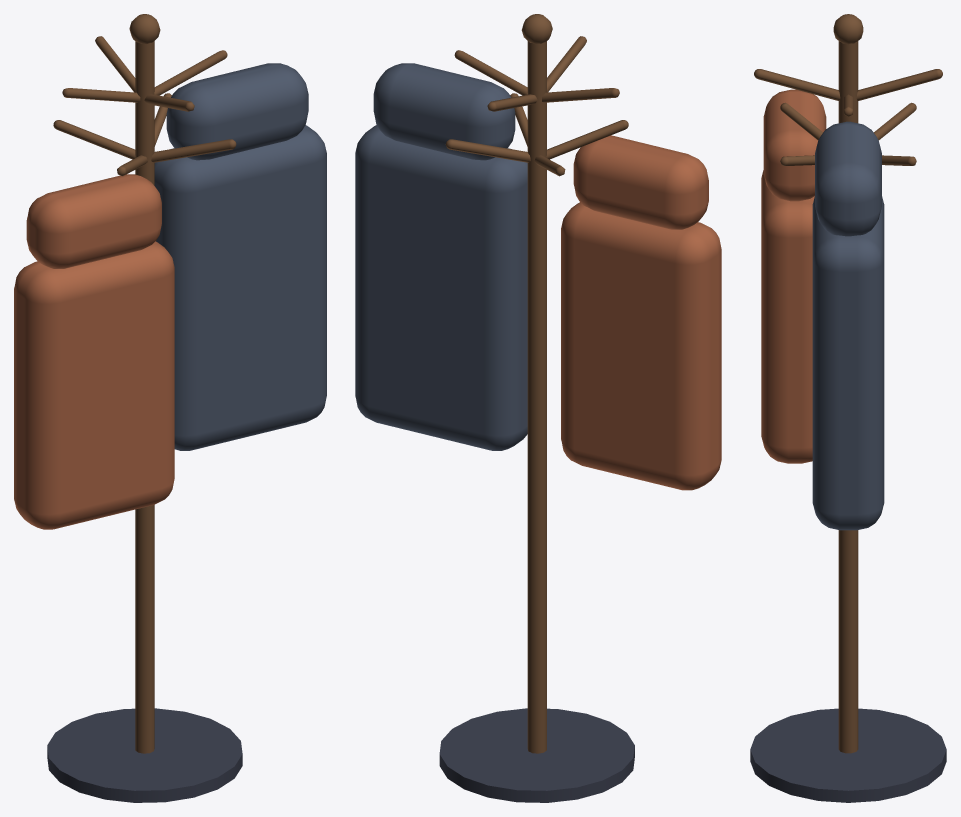
File: ame-019.glb
The picture shows the model from 3 angles, left to right: view 1: azimuth 30°, elevation 25°; view 2: azimuth 150°, elevation 25°; view 3: azimuth 270°, elevation 25°; orthographic projection.
Visible parts, largest first — view 1: upholstery, upholstery_warm, dark_steel, walnut; view 2: upholstery, upholstery_warm, walnut, dark_steel; view 3: upholstery, upholstery_warm, dark_steel, walnut.
Boxes of the visible parts, <box> form: upholstery: <box>154,63,326,450</box>; upholstery_warm: <box>14,174,174,529</box>; dark_steel: <box>47,708,242,802</box>; walnut: <box>53,14,236,753</box>; upholstery: <box>355,63,527,450</box>; upholstery_warm: <box>561,135,721,490</box>; walnut: <box>445,14,628,753</box>; dark_steel: <box>439,708,634,802</box>; upholstery: <box>812,121,884,530</box>; upholstery_warm: <box>761,89,826,463</box>; dark_steel: <box>750,708,946,802</box>; walnut: <box>754,14,942,753</box>.
Size of the model in its own units: 0.84 by 1.85 by 0.44.
